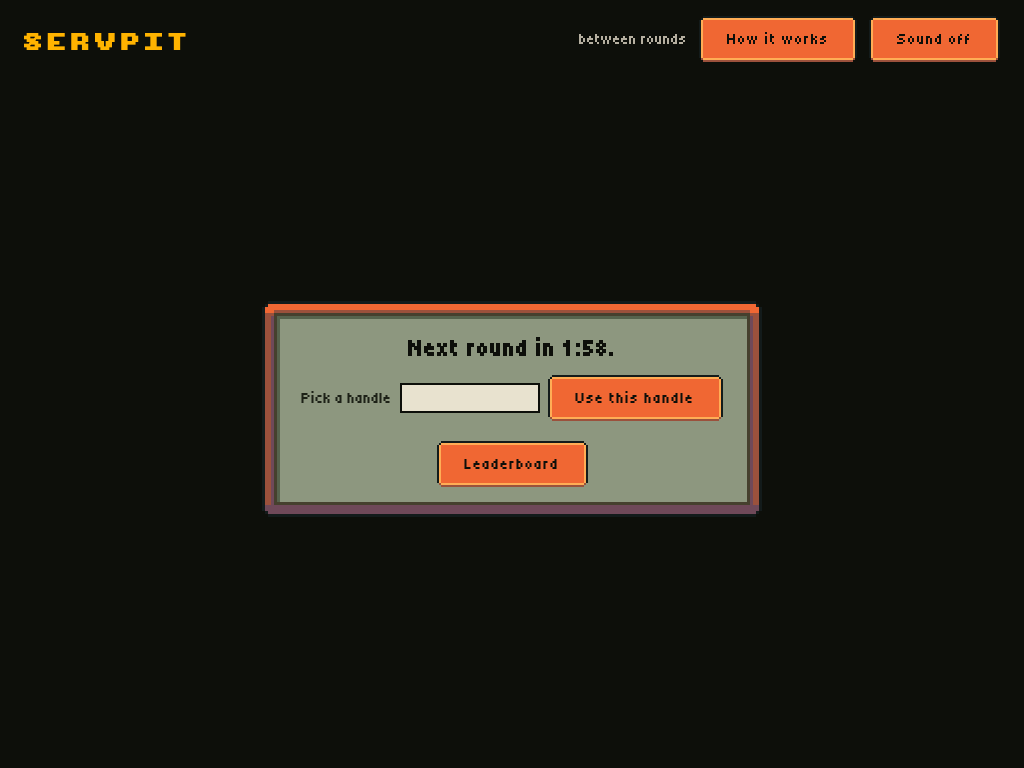
Test: choosing a handle › lets the visitor type a different name instead of taking a suggestion
Type "ash" into the field labelled "Pick a handle".
click(470, 398); type("ash")  # box [400,383,540,413]
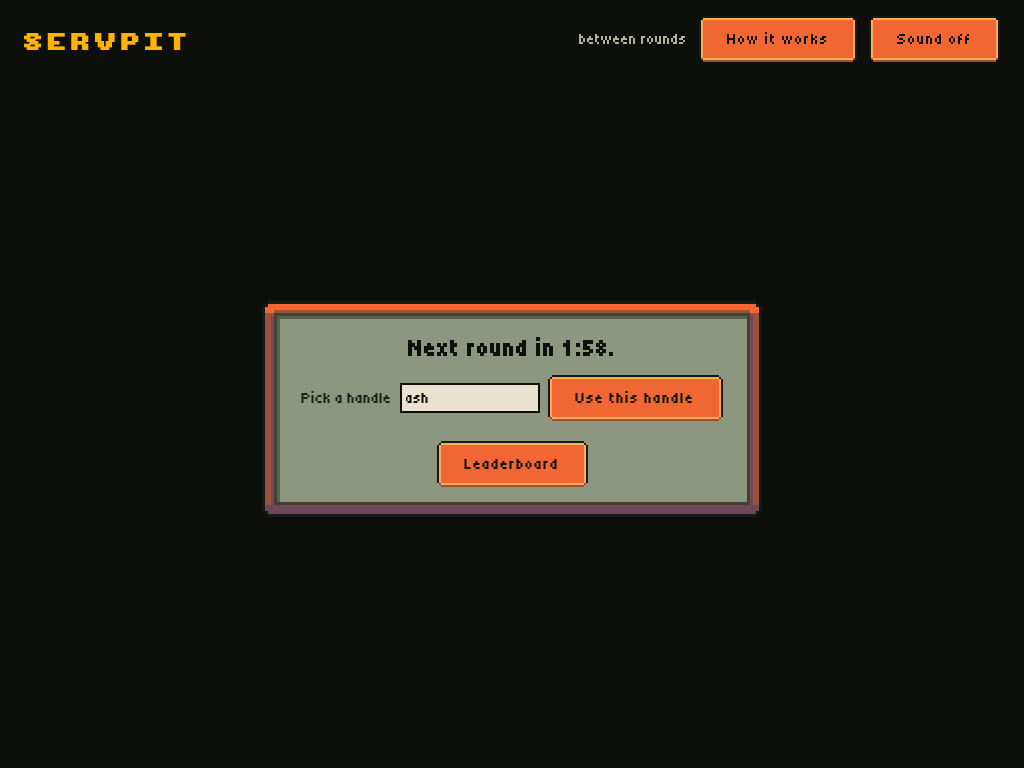
Click the button "Use this handle".
click(635, 398)  # box [548,375,722,421]
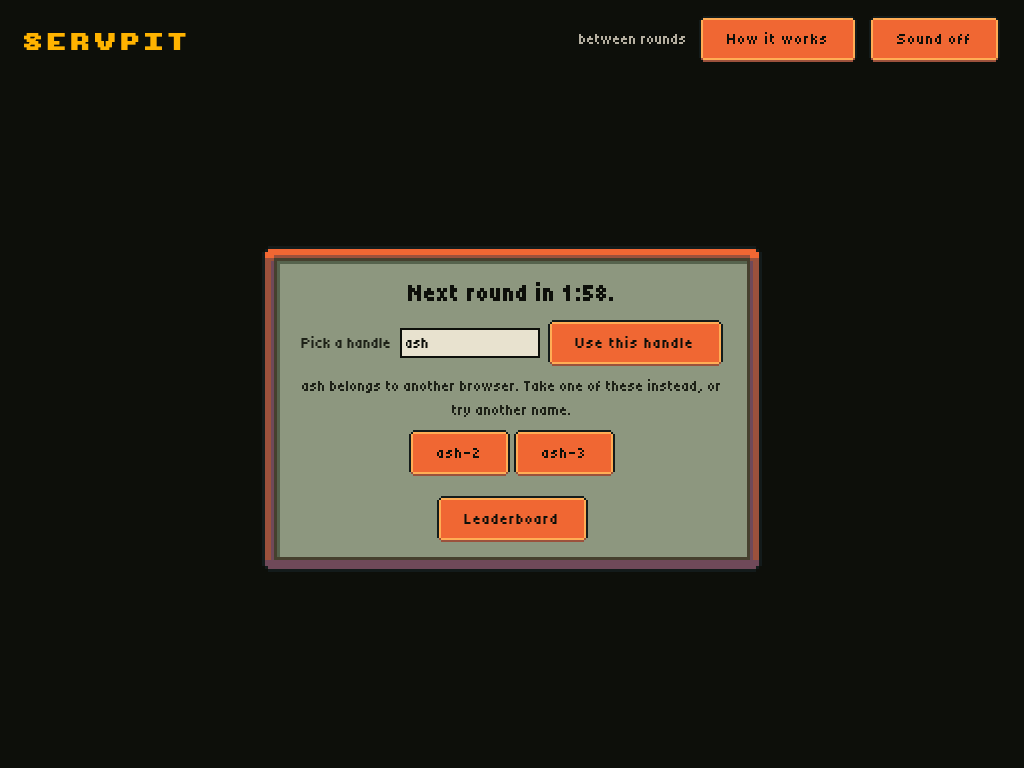
Result: the text "belongs to another browser" is shown at [302,377,722,419]
Replace the text in the field labelled "Pick a handle" with "cinder" at [470, 343], box [400,328,540,358]
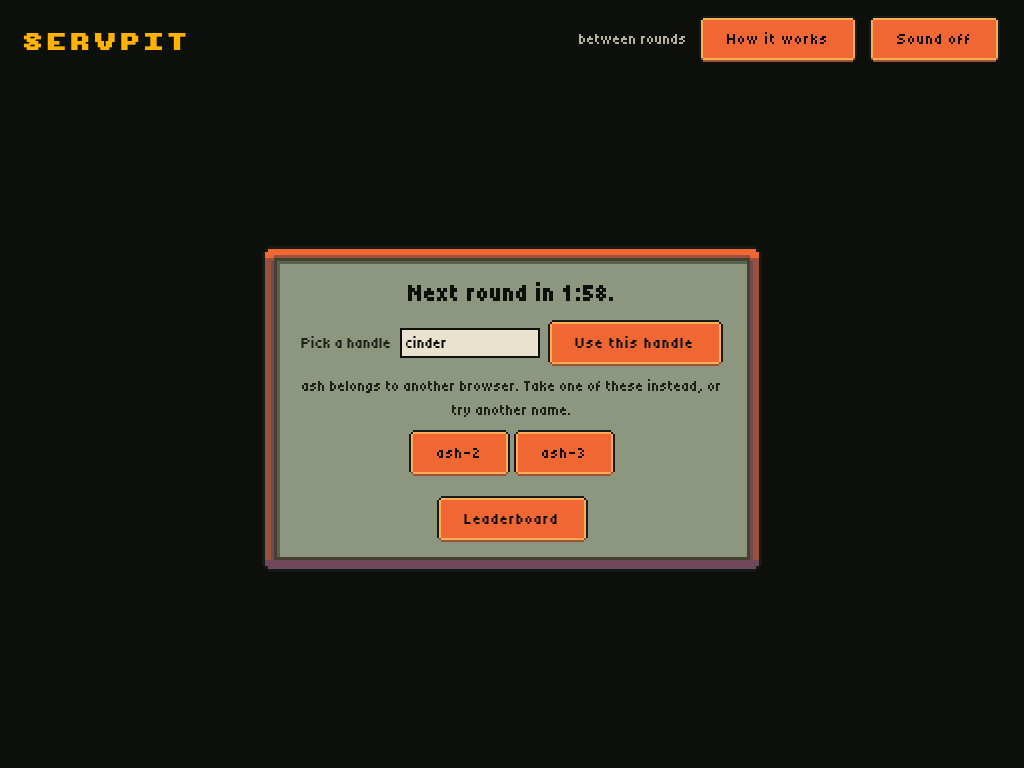
Click the button "Use this handle".
click(635, 343)  # box [548,320,722,366]
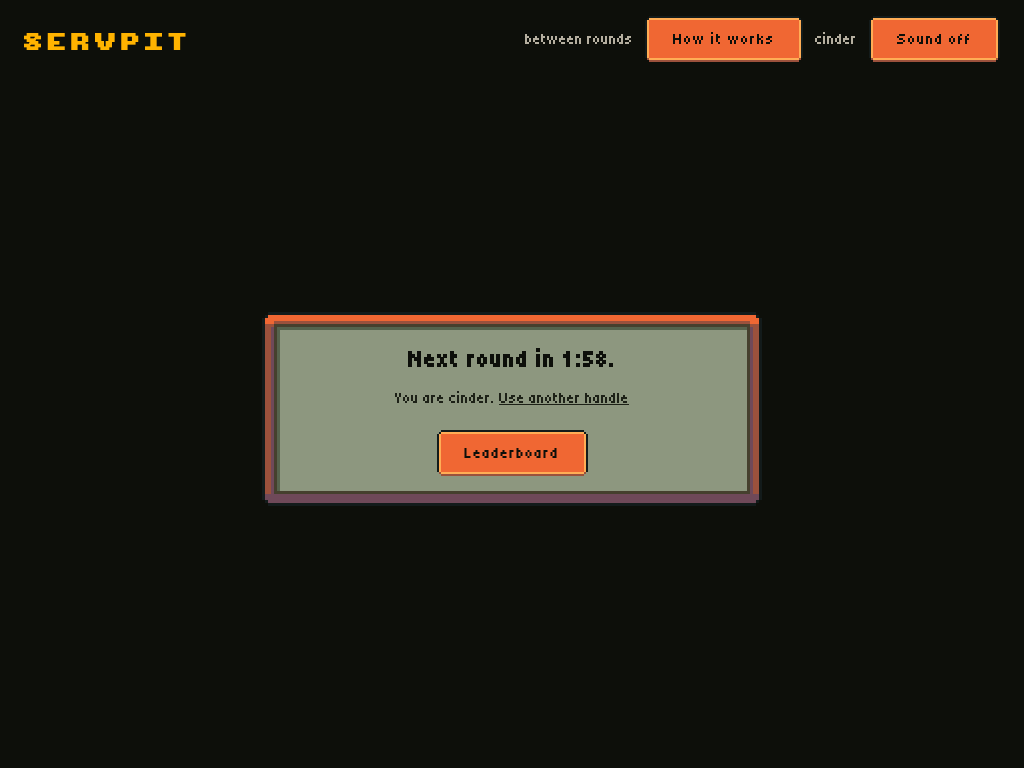
Result: the text "You are cinder." is shown at [395,386,629,410]
